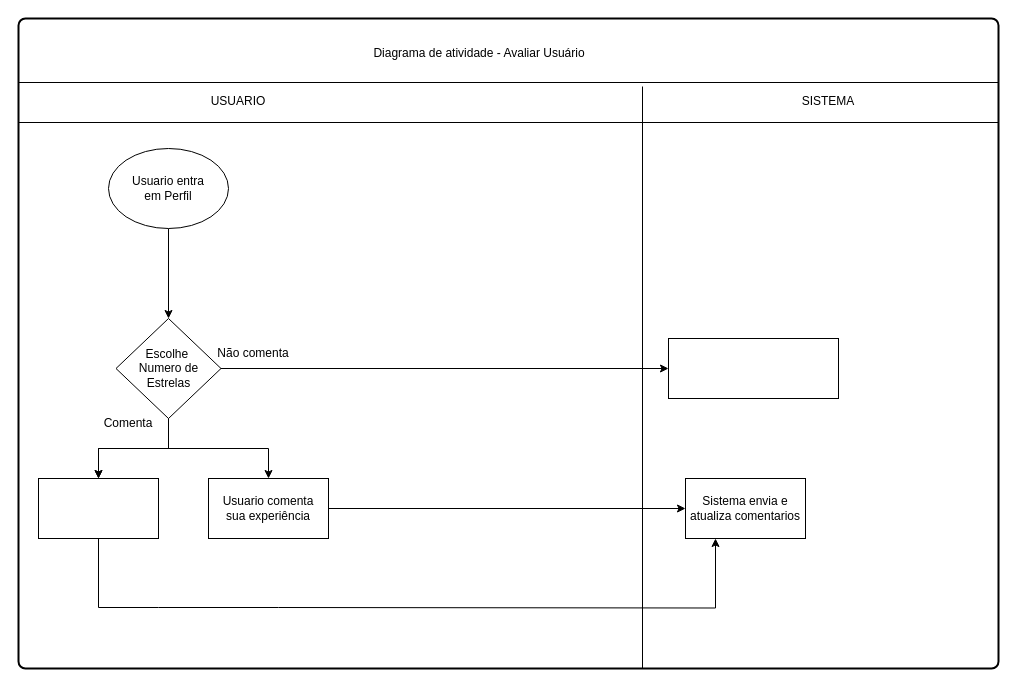
Image size: 1016x686. Some labels were removed from this diagram. The box of each missing label's shape, as (x1, y1, x2, y2) in pixels:
Sistema atualiza avaliações do usuario: (668, 338, 838, 398)
Usuario Responde Outro comentario: (38, 478, 158, 538)
